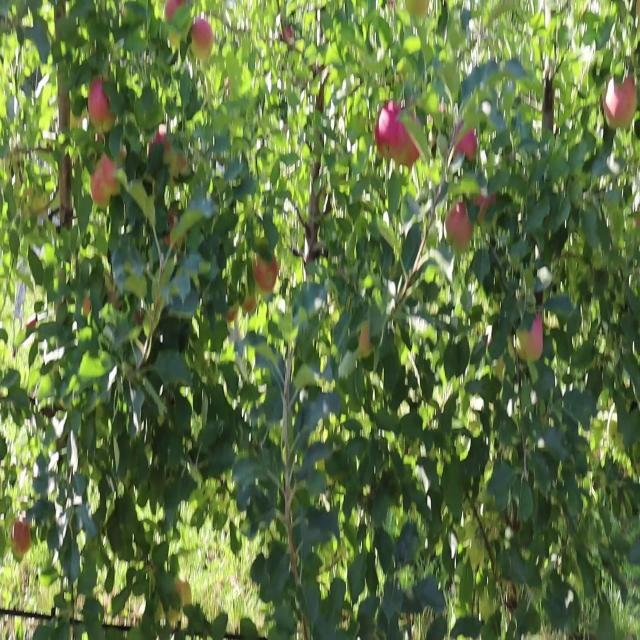apple: (92, 149, 127, 210), (604, 78, 640, 130), (444, 199, 474, 254), (376, 106, 404, 160), (396, 113, 422, 171), (92, 156, 119, 210), (516, 312, 544, 364), (380, 99, 406, 155), (88, 78, 116, 126), (452, 120, 480, 164), (393, 120, 416, 169), (252, 255, 280, 295), (104, 149, 127, 197), (376, 106, 395, 162), (92, 163, 113, 210), (192, 14, 215, 55), (392, 106, 410, 158), (12, 519, 32, 558), (476, 191, 498, 222), (168, 149, 189, 181), (148, 127, 170, 156), (164, 0, 185, 23), (360, 327, 374, 361), (244, 291, 259, 316), (168, 213, 178, 249), (224, 305, 240, 325), (168, 213, 178, 242), (168, 220, 177, 252), (84, 298, 92, 320)
